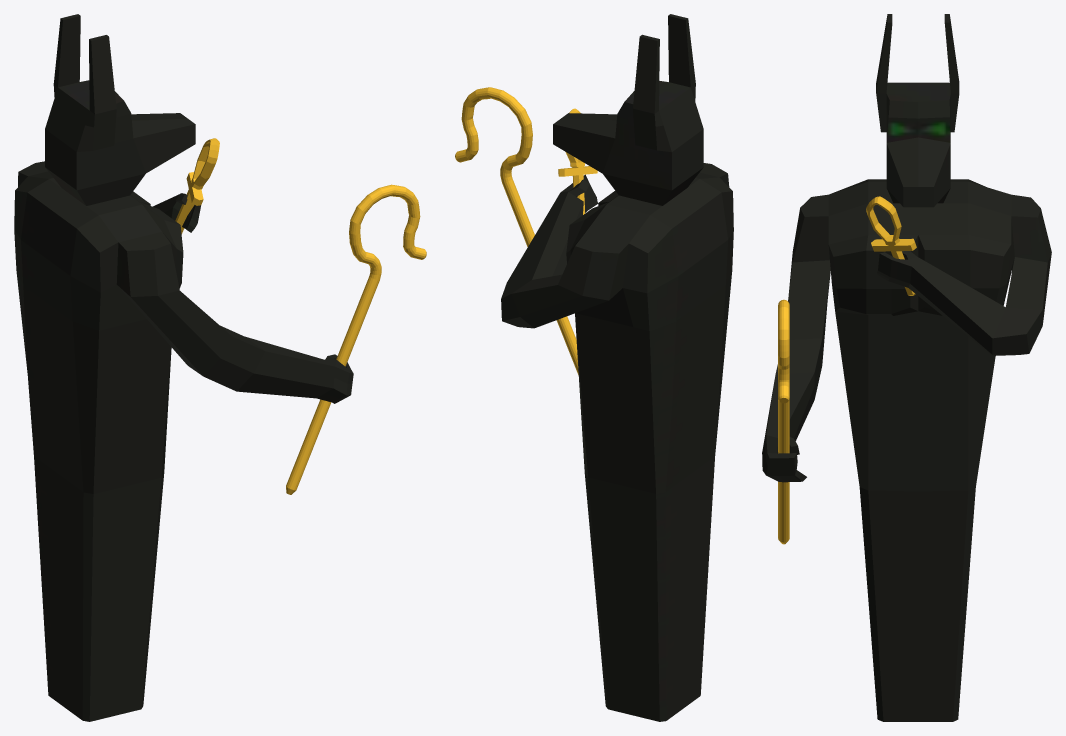
Rendered from people-characters-anubis-statue-294.glb.
The picture shows the model from 3 angles, left to right: view 1: azimuth 30°, elevation 25°; view 2: azimuth 150°, elevation 25°; view 3: azimuth 270°, elevation 25°; orthographic projection.
Visible parts, largest first — view 1: Anubis_Cube, Scepter_Cylinder.001, Anhk_Cylinder.003; view 2: Anubis_Cube, Scepter_Cylinder.001, Anhk_Cylinder.003; view 3: Anubis_Cube, Scepter_Cylinder.001, Anhk_Cylinder.003.
Part boxes in pixels (x1,y1,x2,y2): Anubis_Cube: [14, 14, 353, 721]; Scepter_Cylinder.001: [286, 184, 426, 494]; Anhk_Cylinder.003: [175, 138, 219, 233]; Anubis_Cube: [501, 14, 733, 721]; Scepter_Cylinder.001: [455, 87, 578, 374]; Anhk_Cylinder.003: [558, 108, 597, 214]; Anubis_Cube: [762, 14, 1051, 721]; Scepter_Cylinder.001: [778, 299, 789, 544]; Anhk_Cylinder.003: [866, 196, 916, 295].
Size of the model in its own units: 6.28 by 12.94 by 4.97.
2 materials, 1 textured.
